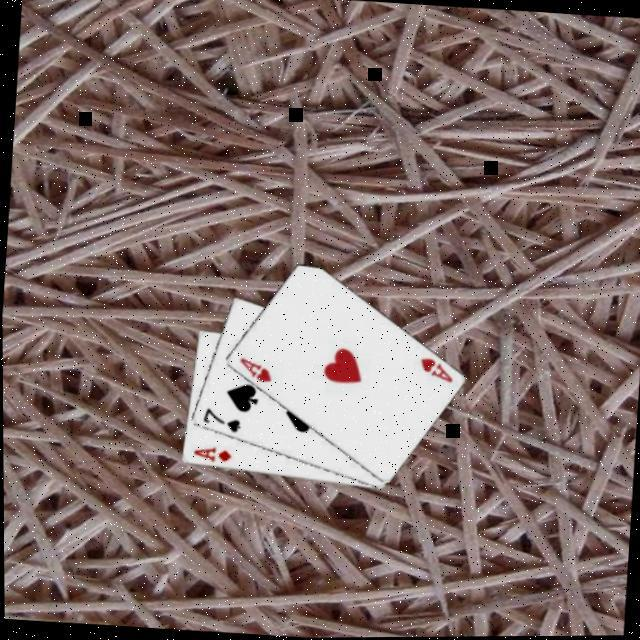7S: (196, 405, 242, 436)
AD: (187, 444, 232, 466)
AH: (232, 355, 273, 387), (414, 354, 454, 386)
